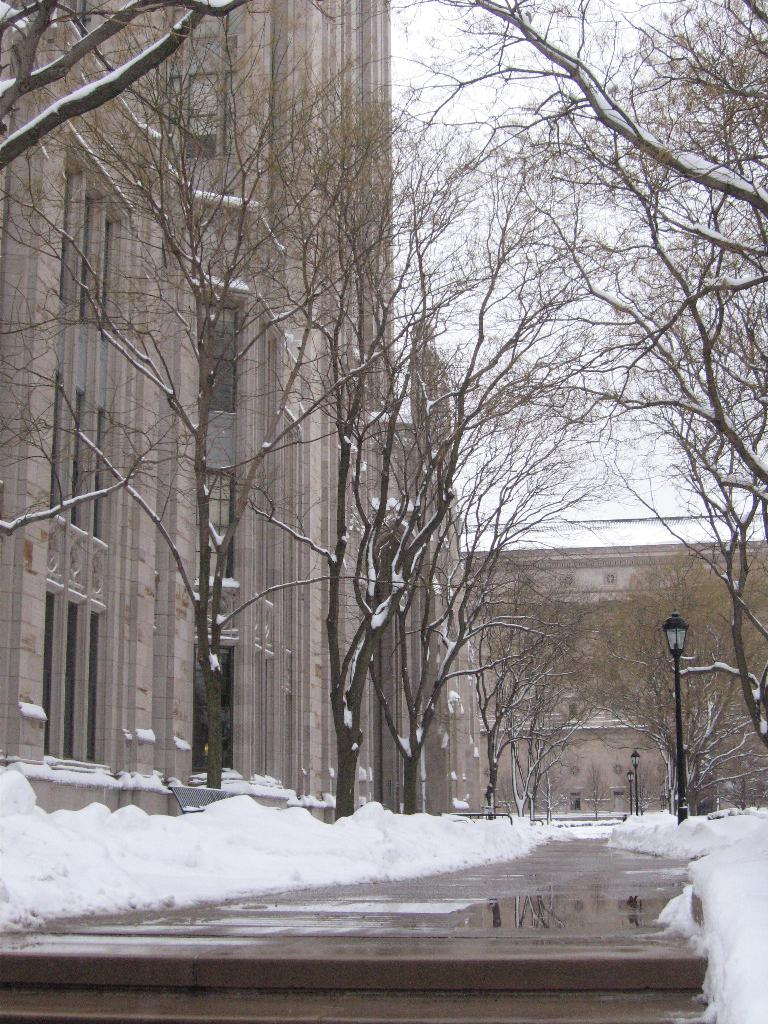Tree: (0, 0, 767, 824)
